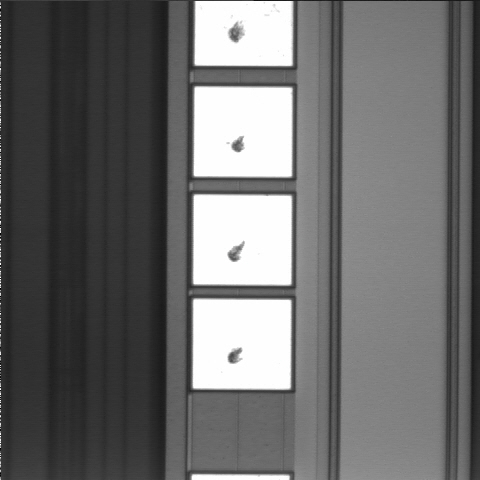pad: (193, 195, 292, 285), (194, 87, 292, 177), (193, 299, 291, 389)
